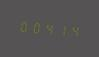four: (42, 19, 53, 37), (66, 21, 77, 39)
one: (54, 20, 65, 38)
zero: (18, 17, 29, 35), (30, 18, 41, 36)
